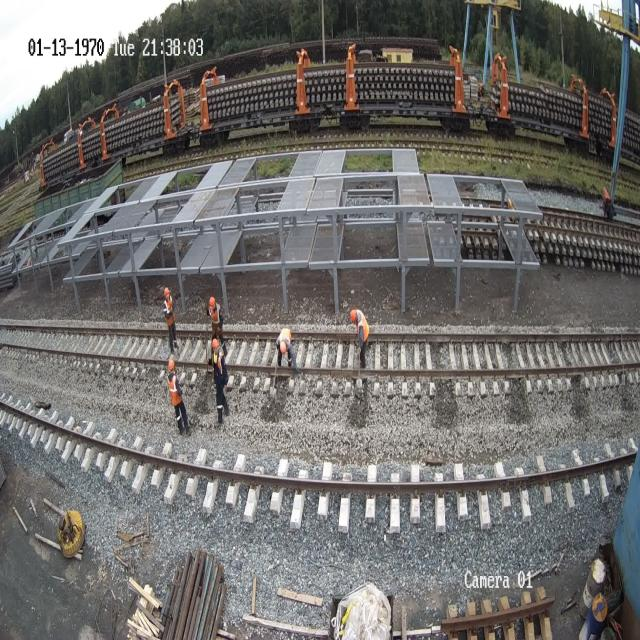Helmet: (211, 338, 219, 350), (350, 309, 356, 323), (209, 296, 215, 308), (168, 360, 175, 370), (164, 287, 170, 297)
Person: (167, 359, 192, 436), (211, 338, 230, 423), (206, 296, 228, 357), (276, 327, 300, 375), (350, 308, 369, 368), (162, 287, 177, 355)
